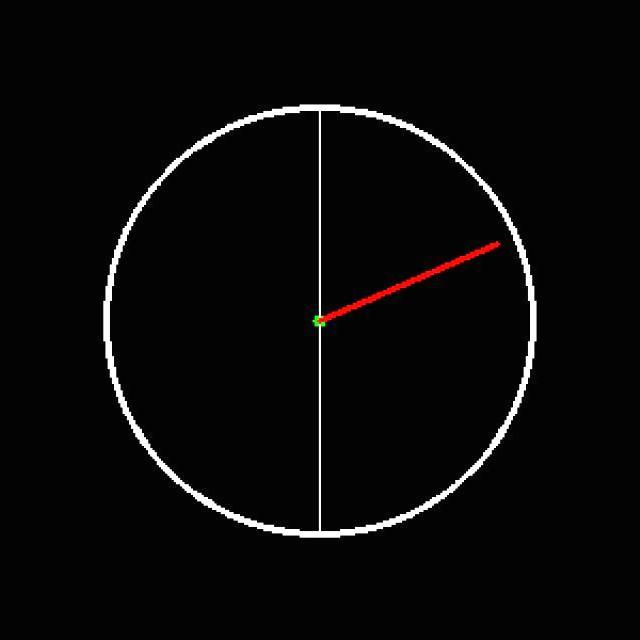Needle_Tip: (461, 212, 515, 285)
Needle_base: (285, 294, 347, 352)
